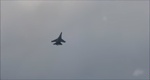maybay_muctieu: (50, 28, 67, 47)
